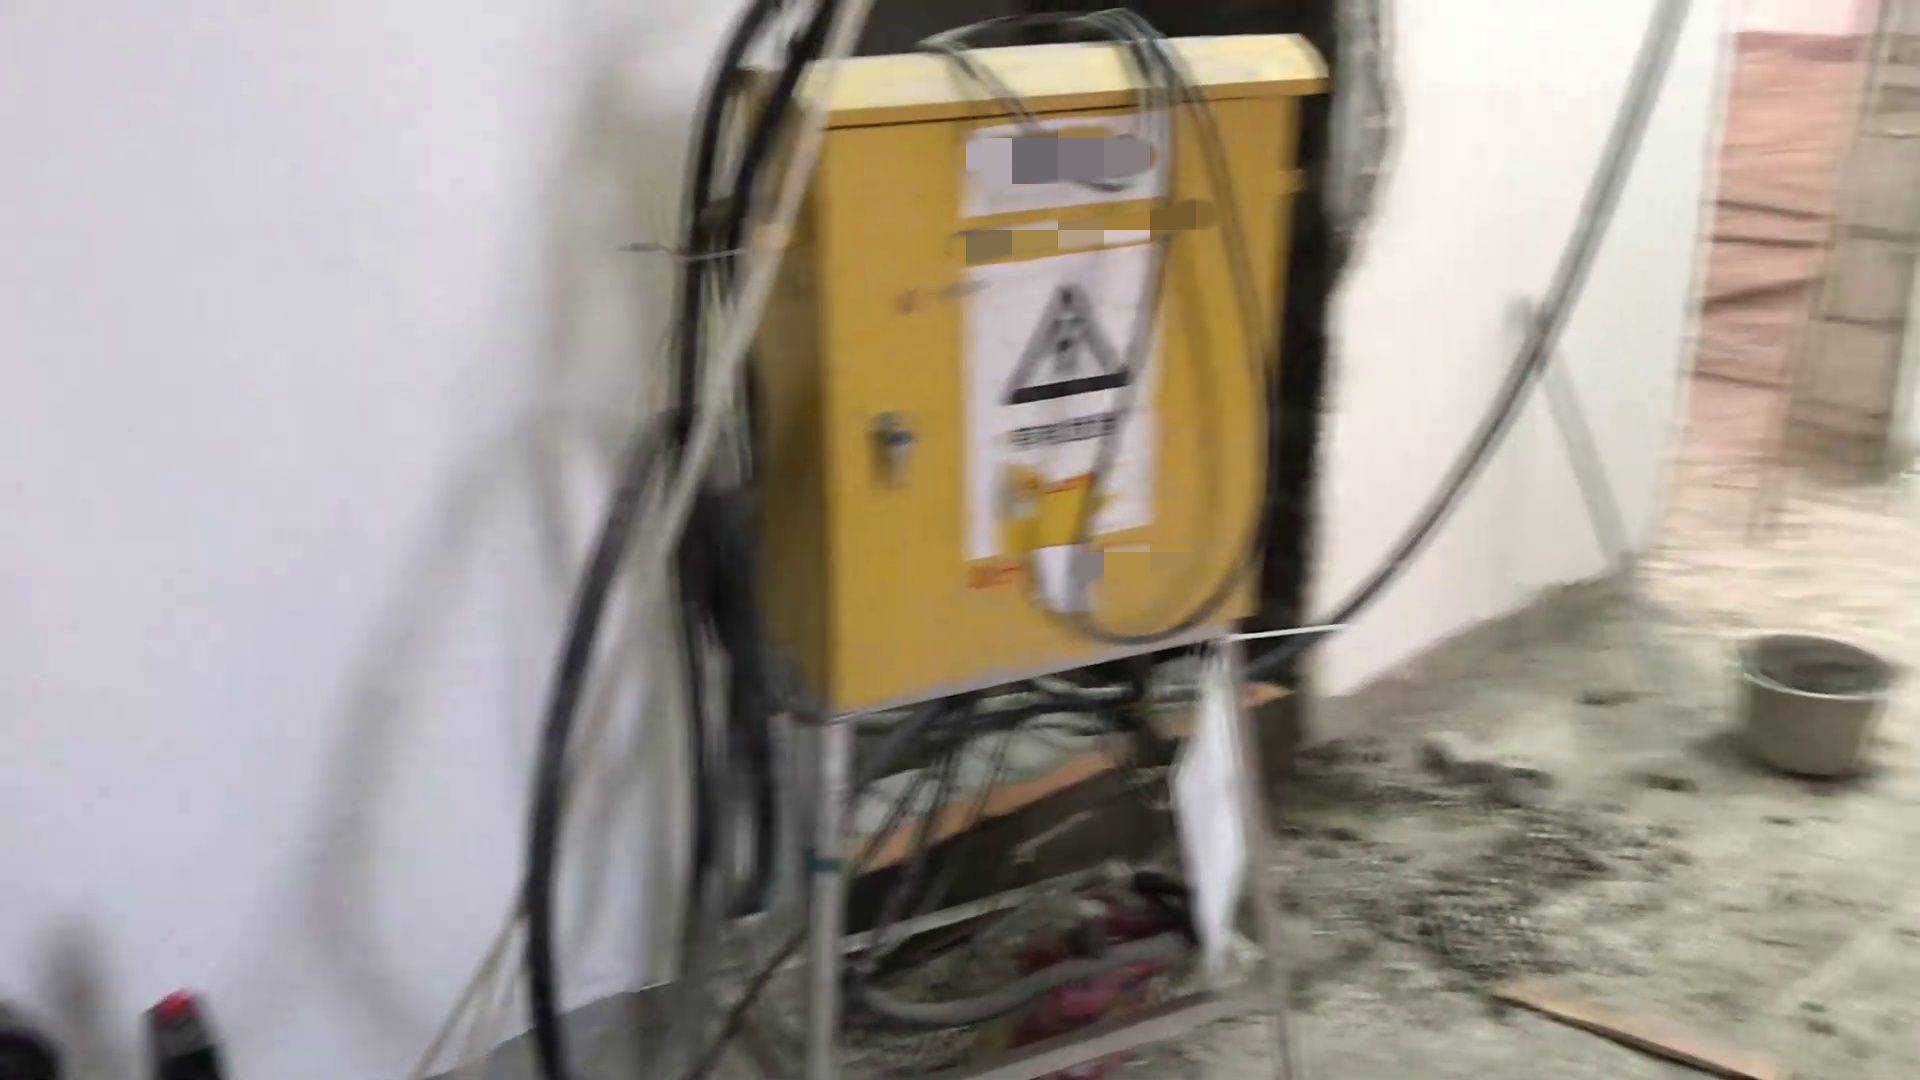ebox: (694, 26, 1331, 1080)
